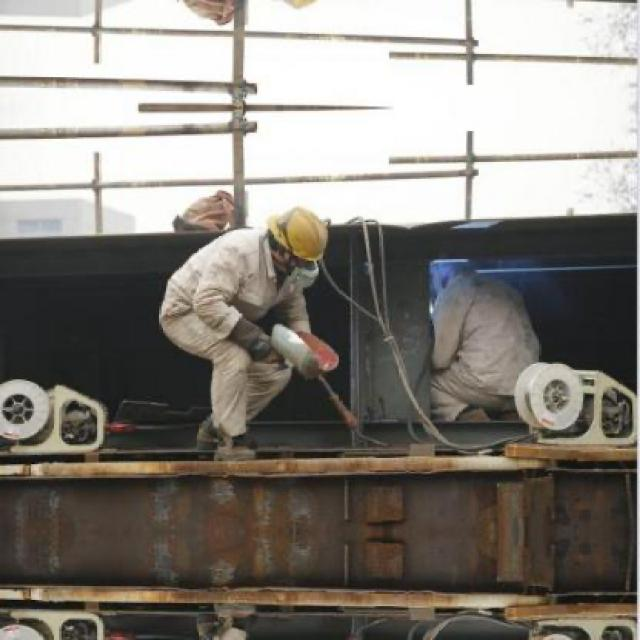helmet: (266, 201, 336, 276), (266, 0, 337, 17)
